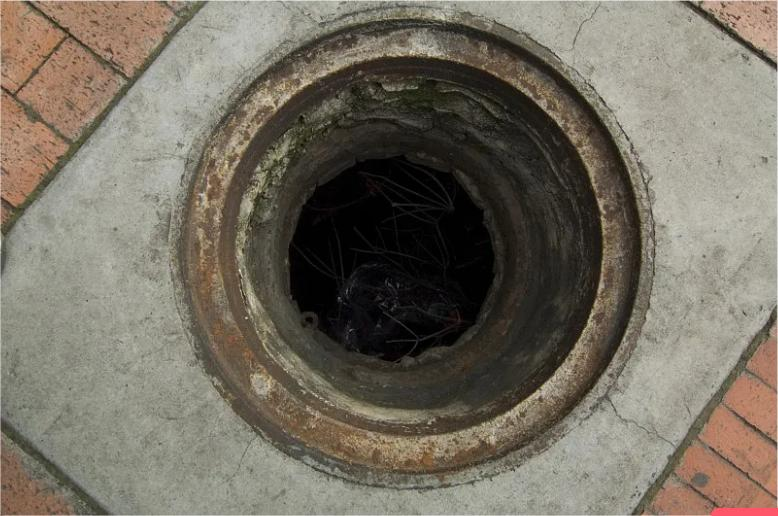wellcover: (169, 8, 659, 481)
